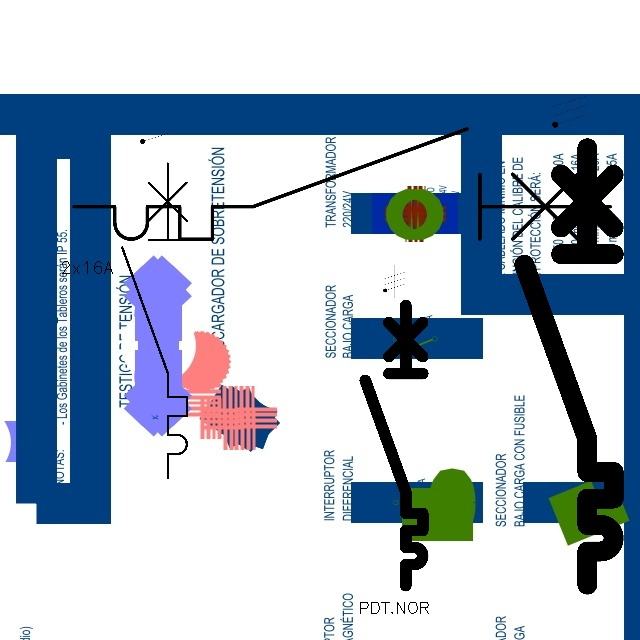interruptor_termomagnetico: (60, 115, 624, 253), (513, 136, 625, 595), (114, 155, 195, 486), (358, 298, 430, 593)
